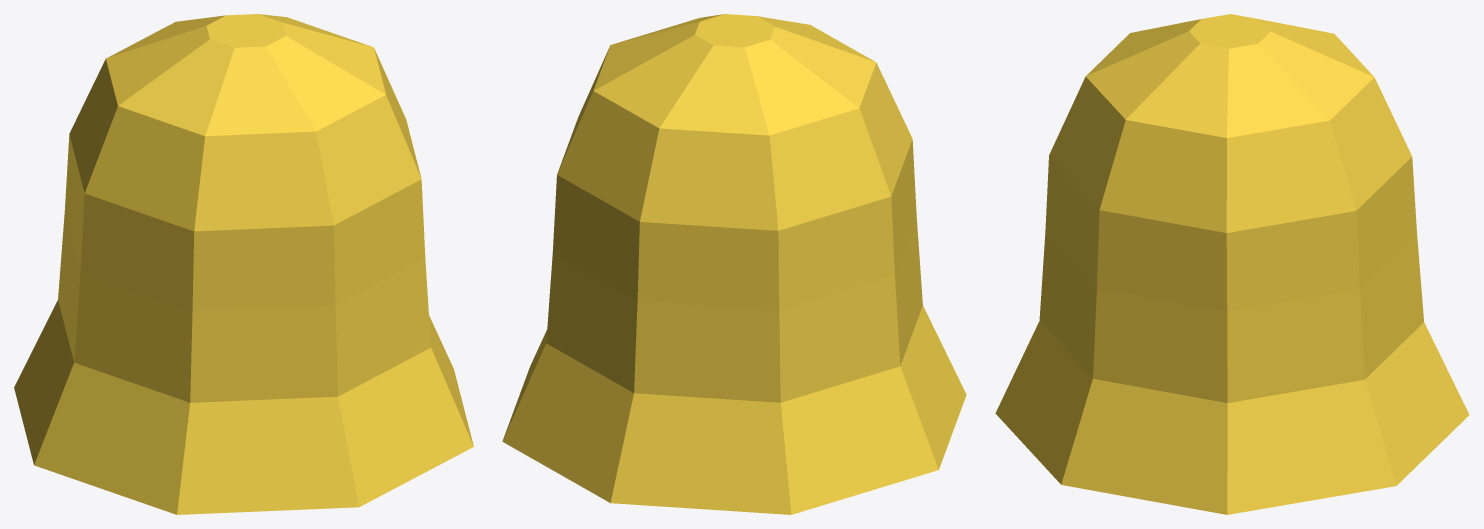
Rendered from LinglanBranch1010.fbx.
The picture shows the model from 3 angles, left to right: view 1: azimuth 30°, elevation 25°; view 2: azimuth 150°, elevation 25°; view 3: azimuth 270°, elevation 25°; orthographic projection.
Parts seen in each view (by area): view 1: Cylinder.001; view 2: Cylinder.001; view 3: Cylinder.001.
Boxes of the visible parts, x1,y1,x2,y2 form: Cylinder.001: [14, 14, 473, 514]; Cylinder.001: [502, 14, 966, 514]; Cylinder.001: [995, 14, 1469, 514].
Size of the model in its own units: 25.32 by 22.68 by 25.32.
